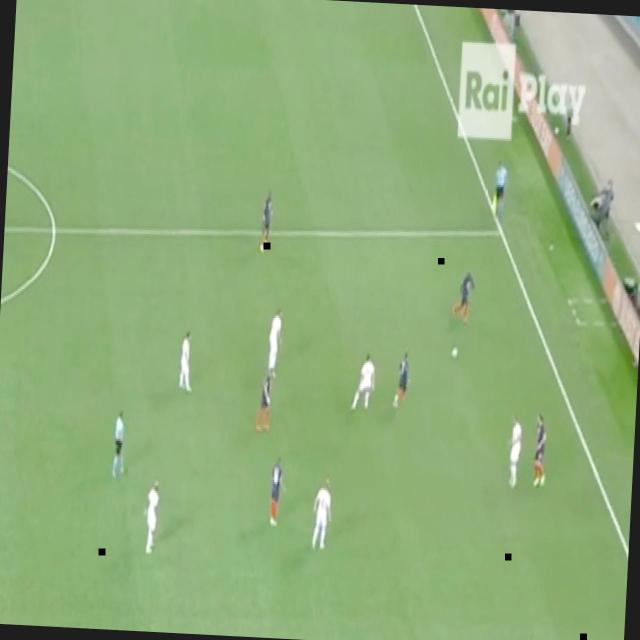ball: (451, 344, 458, 360), (554, 126, 560, 136)
player-white: (140, 476, 162, 558), (310, 477, 334, 551), (530, 413, 554, 487), (349, 352, 377, 414), (263, 304, 285, 382), (503, 414, 524, 490), (267, 455, 289, 527), (109, 407, 129, 483), (254, 364, 275, 436), (452, 268, 477, 326), (392, 347, 412, 415), (176, 329, 195, 395), (491, 161, 509, 221), (259, 188, 275, 252)
